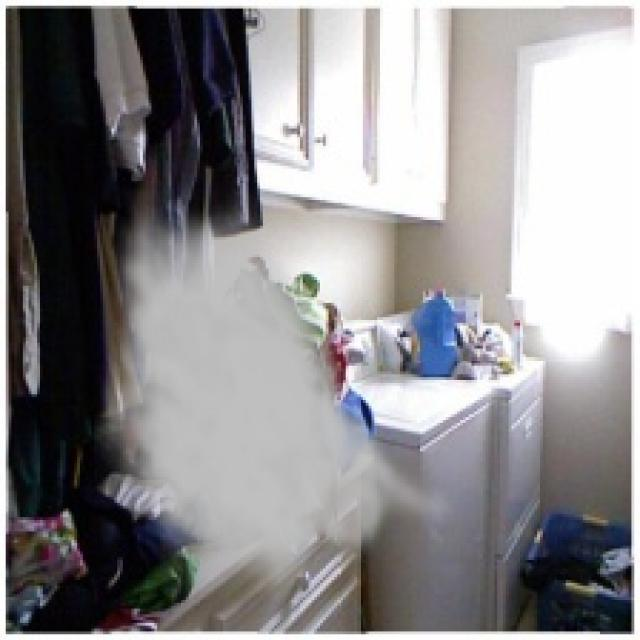Smoke: (94, 185, 457, 606)
